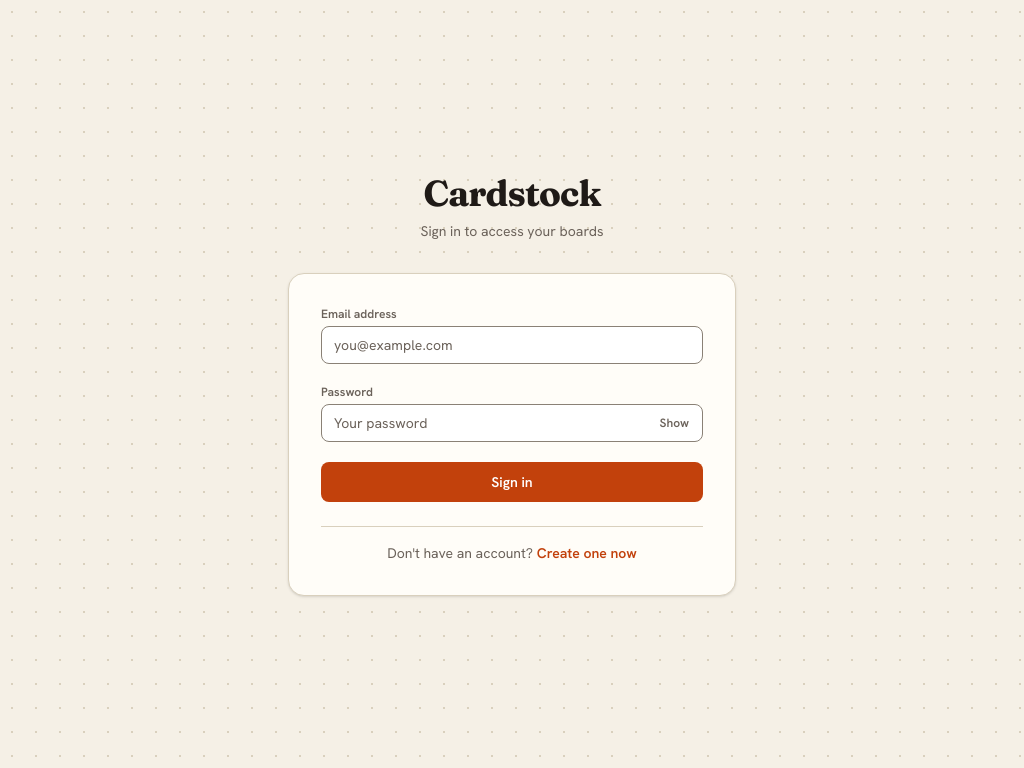
it: AuthPage › Error Announcements and Submissions › toggles password visibility with accessible button
Click the button with aria-label "Show password as plain text": (674, 422) [652,410,697,434]
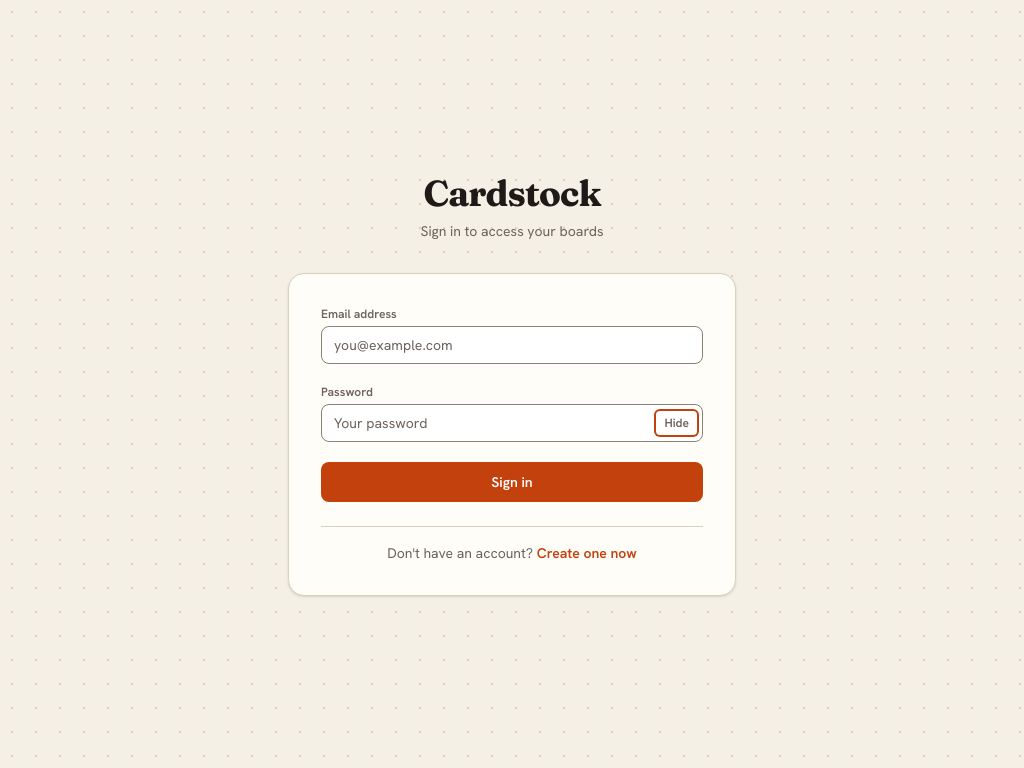
Result: the button with aria-label "Hide password" is shown at [656,410,697,434]
